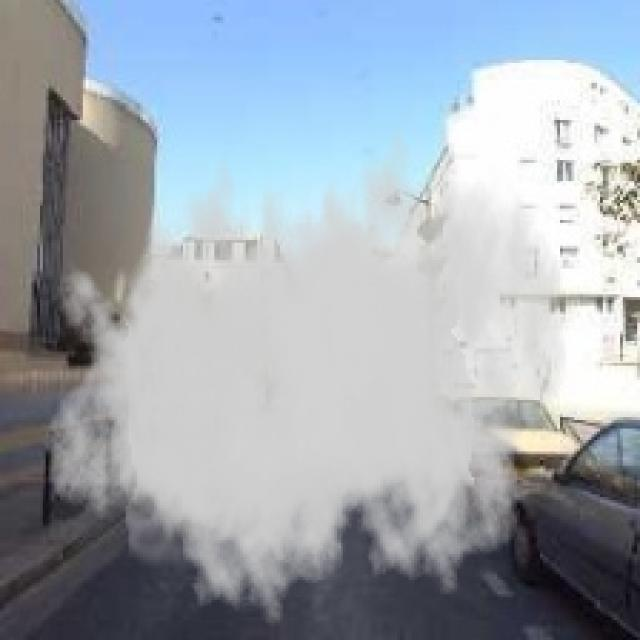Smoke: (42, 102, 568, 634)
